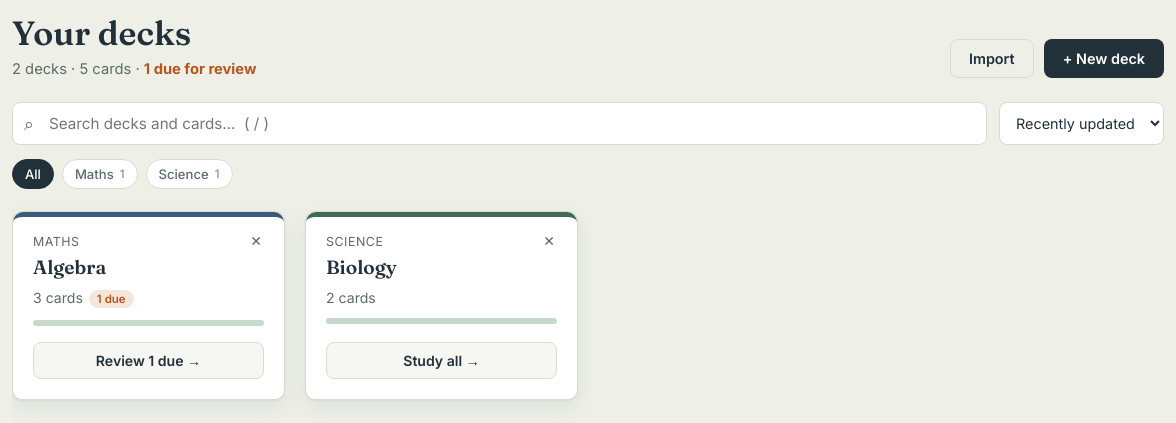
Test case: DashboardPage › debounces search and queries the API with the term
Expected: the link "Algebra" is shown, [33,255,106,279]
Type "bio" into the search field labelled "Search decks and cards".
click(500, 124); type("bio")  # box [12,102,987,145]
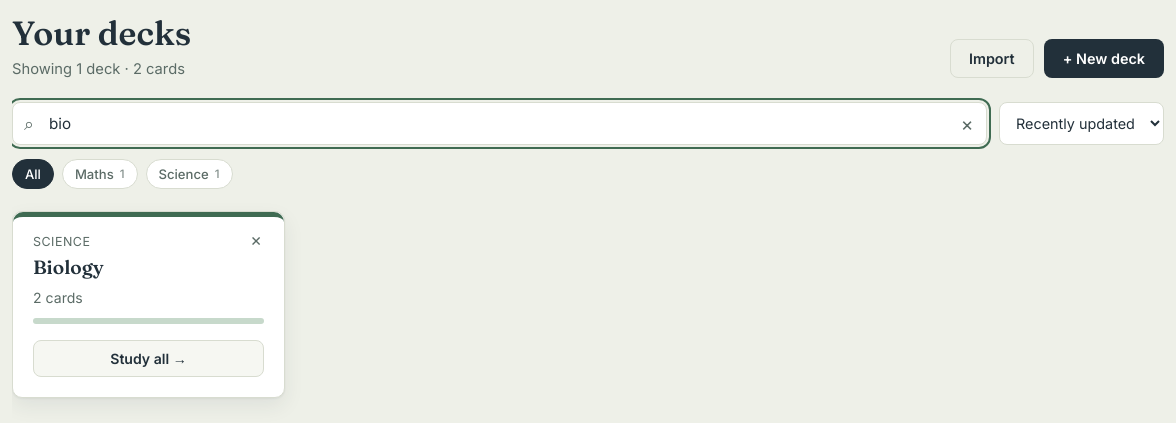
Expected: the link "Biology" is shown, [33,255,104,279]
Expected: the link "Algebra" is gone
